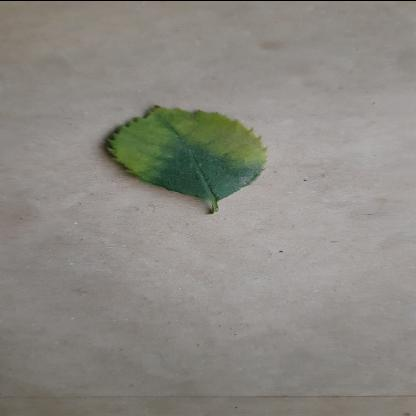downy-mildew: (109, 104, 275, 200)
